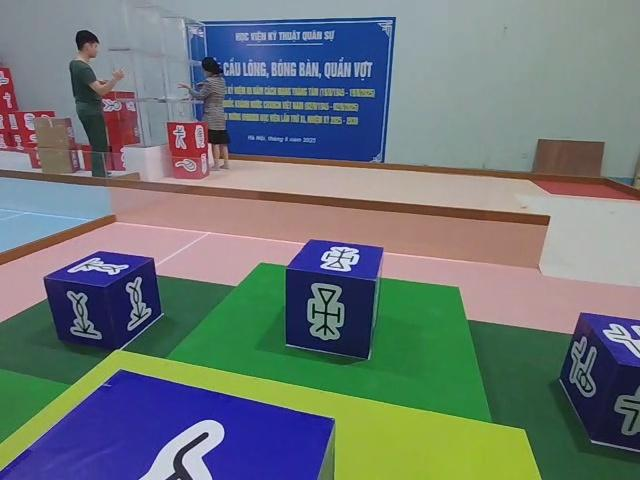R2 Real Blue: (46, 250, 166, 352), (287, 239, 386, 360), (561, 312, 640, 461)
